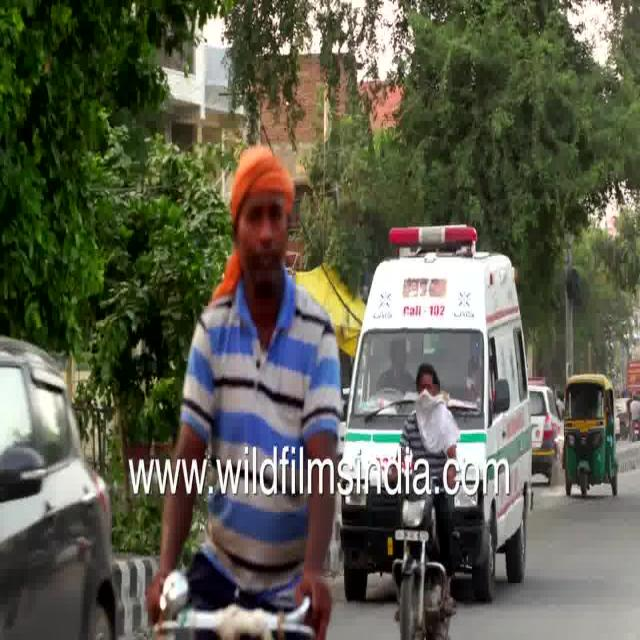ambulance: (352, 214, 532, 388), (460, 405, 541, 591), (350, 427, 388, 603)
